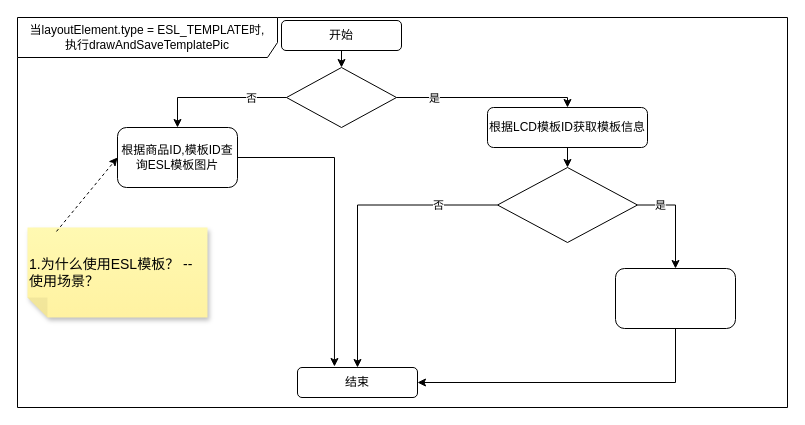
Some shapes in this 805 by 425 pixel diagram are drawn without their labels. Here are the shapes that lost their labels. From the top down, the centre of each, then its label:
At [341,97]: "是否LCD模板".
At [567,204]: "根据商品, 模板信息MD5一致性校验是否过滤".
At [675,298]: "生成图片数据".
